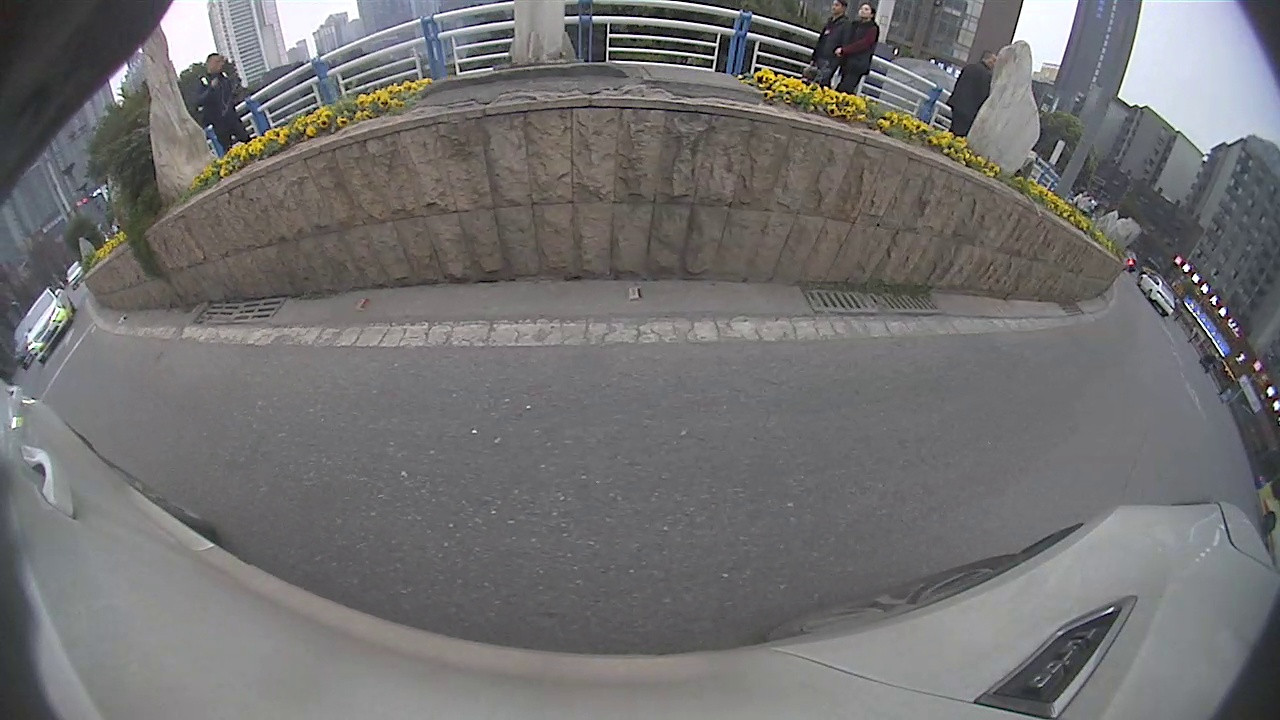car: (21, 289, 76, 363)
person: (840, 4, 881, 95), (203, 51, 237, 154), (959, 47, 995, 144)
